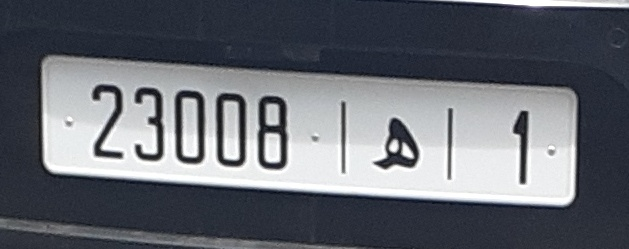0: (212, 88, 252, 173), (169, 84, 208, 166)
1: (507, 103, 537, 192)
2: (86, 75, 126, 163)
3: (131, 82, 170, 163)
8: (253, 91, 295, 176)
h: (370, 102, 426, 178)
